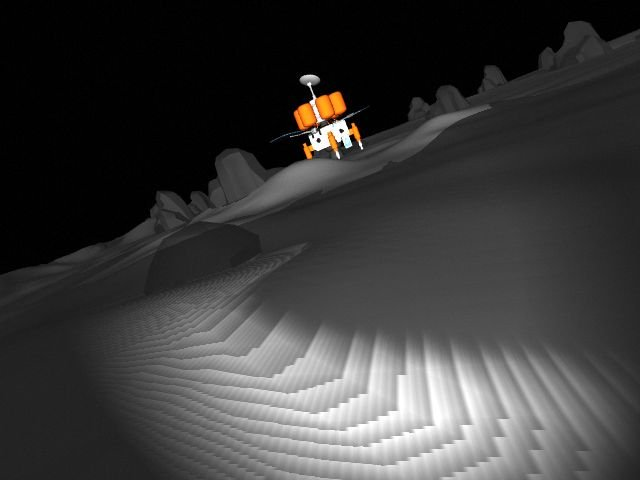homebase: (264, 71, 378, 161)
